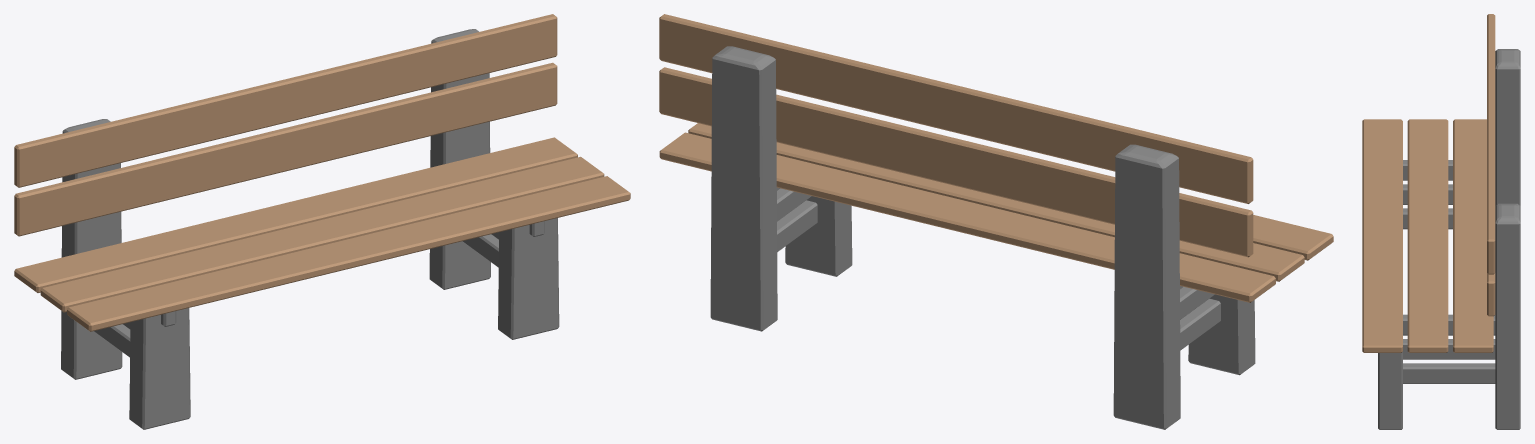
Rendered from low_poly_-_park_bench.glb.
The picture shows the model from 3 angles, left to right: view 1: azimuth 30°, elevation 25°; view 2: azimuth 150°, elevation 25°; view 3: azimuth 270°, elevation 25°; orthographic projection. The views are drawn at different scales.
Parts seen in each view (by area): view 1: Cube; view 2: Cube; view 3: Cube.
Boxes of the visible parts, x1=… form: Cube: x1=14, y1=14, x2=630, y2=429; Cube: x1=659, y1=14, x2=1333, y2=429; Cube: x1=1362, y1=14, x2=1520, y2=429.
Bounding box in the file's own units: 823 × 365 × 242.
1 material, 1 textured.
